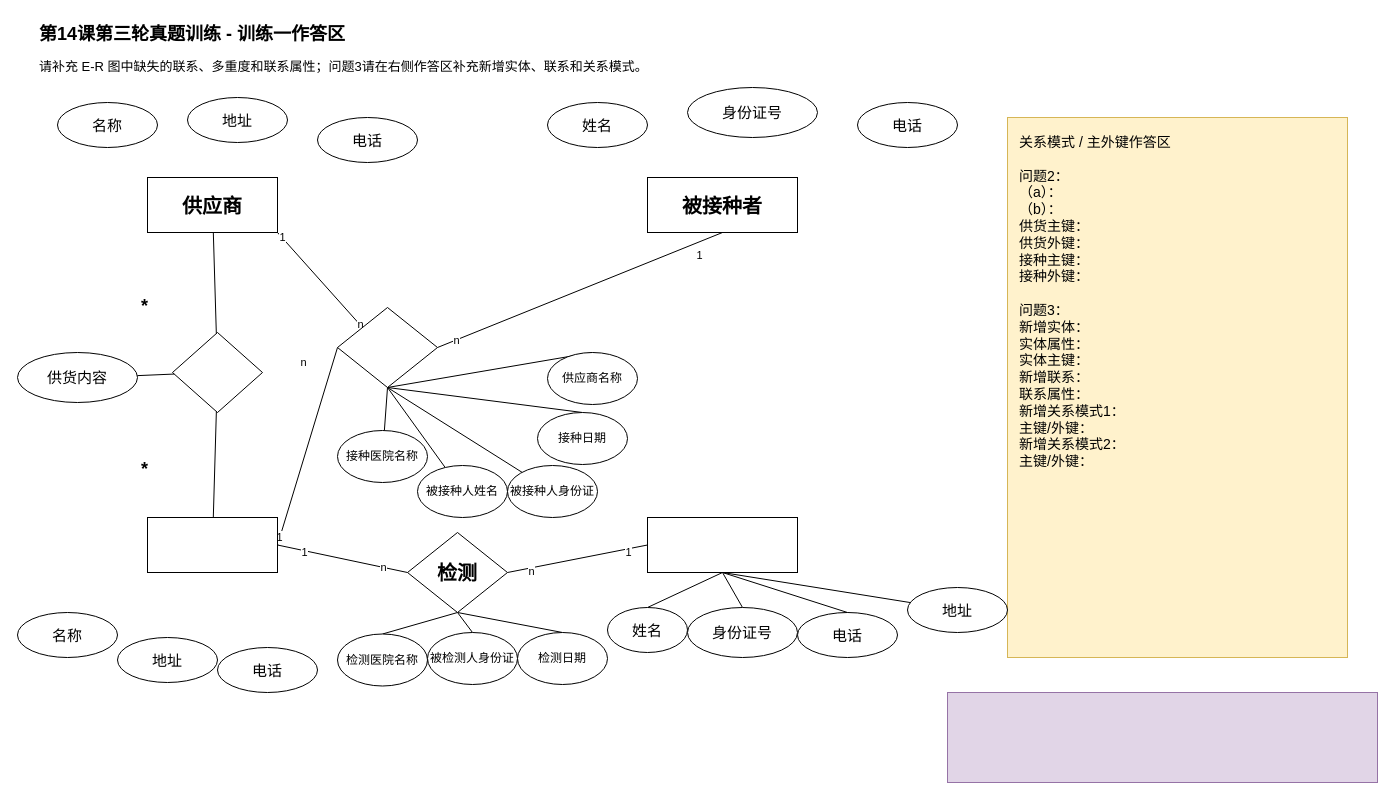
This 1395x800 diagram has some shape labels left out. The centre of each missing label's shape, as x and y in pixels:
"作图提示：本题已有“供货”联系；请重点补全“接种”的参与实体、多重度和联系属性。问题3需要新增实体与检测联系。" goes at point (1162, 737).
"供货" goes at point (217, 372).
"医院" goes at point (212, 544).
"接种" goes at point (387, 347).
"被检测者" goes at point (722, 544).
